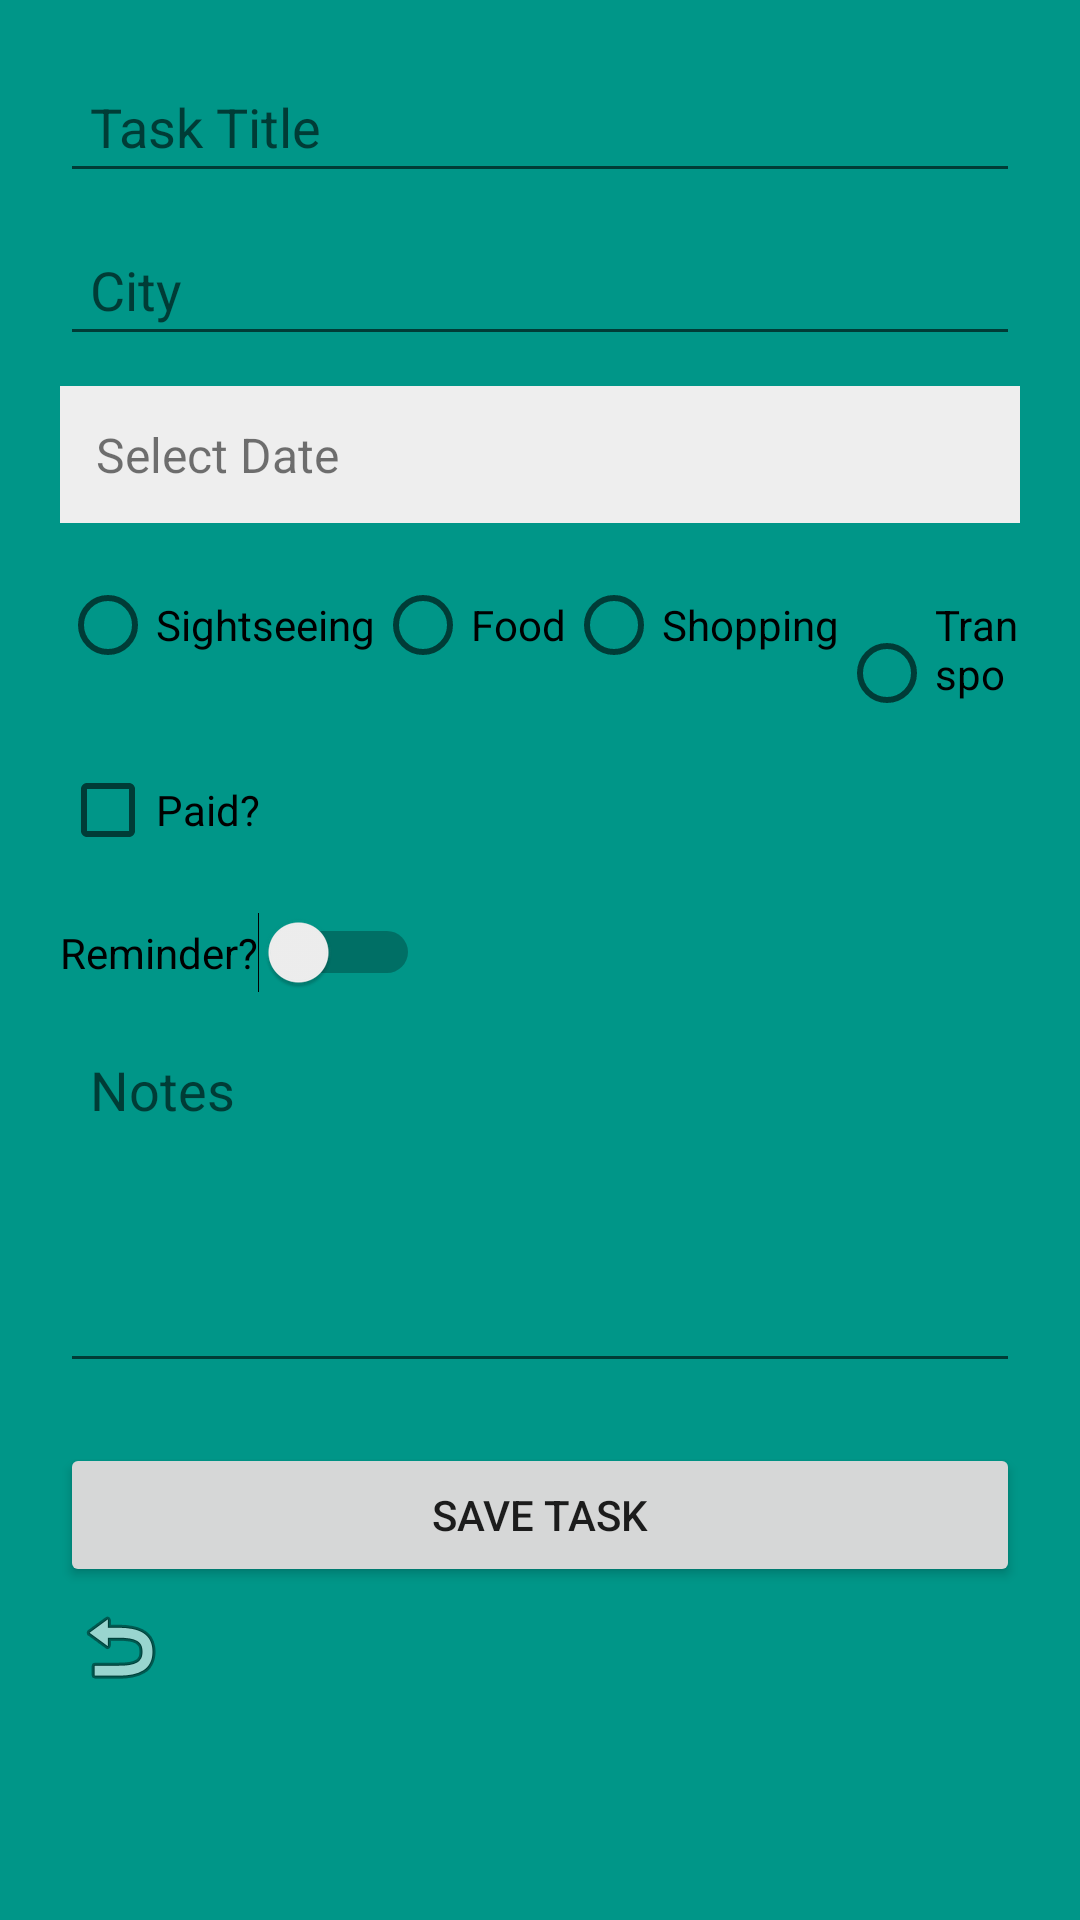

Screen size 1080×1920. Icon name, then its center in pixels as (x=x, y=y):
revert: (x=121, y=1648)
